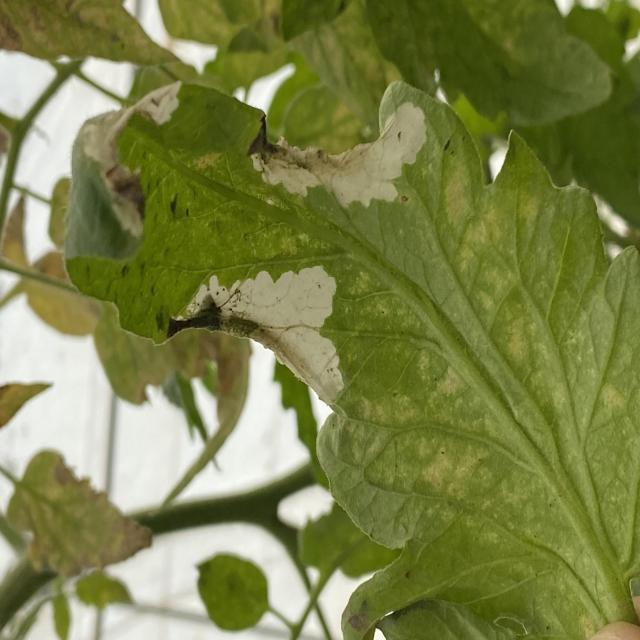Tuta absoluta: (183, 218, 390, 405), (248, 99, 444, 235), (71, 68, 212, 196), (110, 190, 147, 242)
